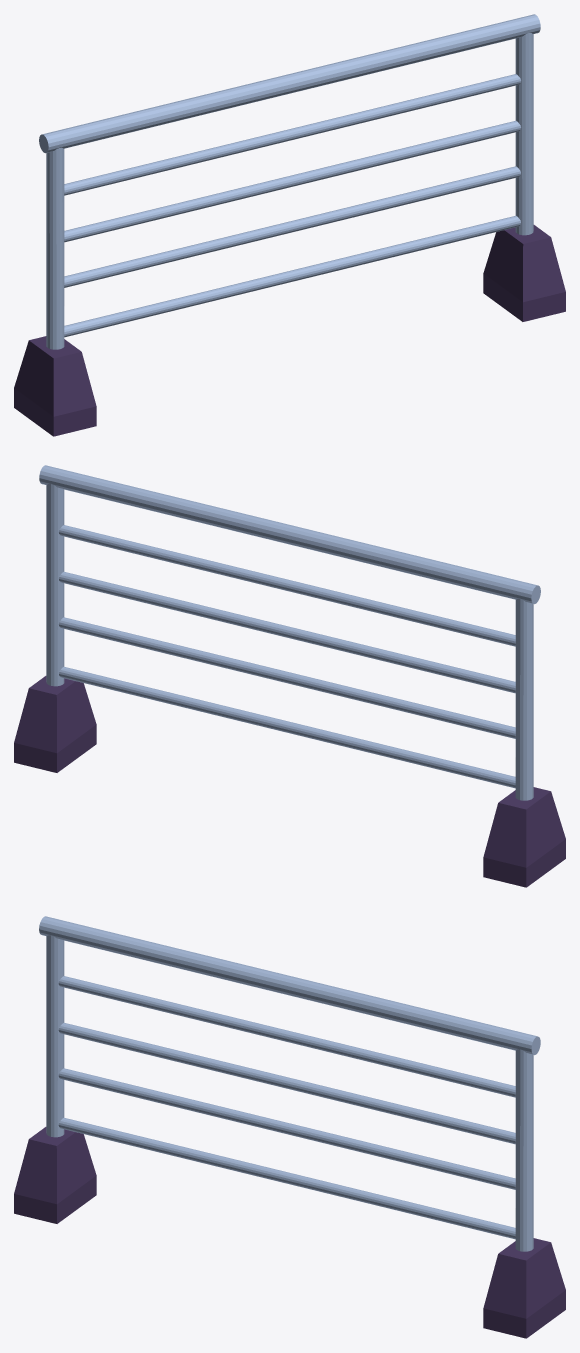
File: Cerca.fbx
3 views of the same model, one above another, from view 1: azimuth 30°, elevation 25°; view 2: azimuth 150°, elevation 25°; view 3: azimuth 330°, elevation 25° (orthographic).
Parts seen in each view (by area): view 1: Tubos cerca, Cerca; view 2: Tubos cerca, Cerca; view 3: Tubos cerca, Cerca.
Boxes of the visible parts, x1,y1,x2,y2 form: Tubos cerca: (39,14,540,349); Cerca: (14,225,565,436); Tubos cerca: (39,465,540,800); Cerca: (14,676,565,887); Tubos cerca: (39,916,540,1251); Cerca: (14,1127,565,1338).
Size of the model in its own units: 687 by 365 by 91.76.
